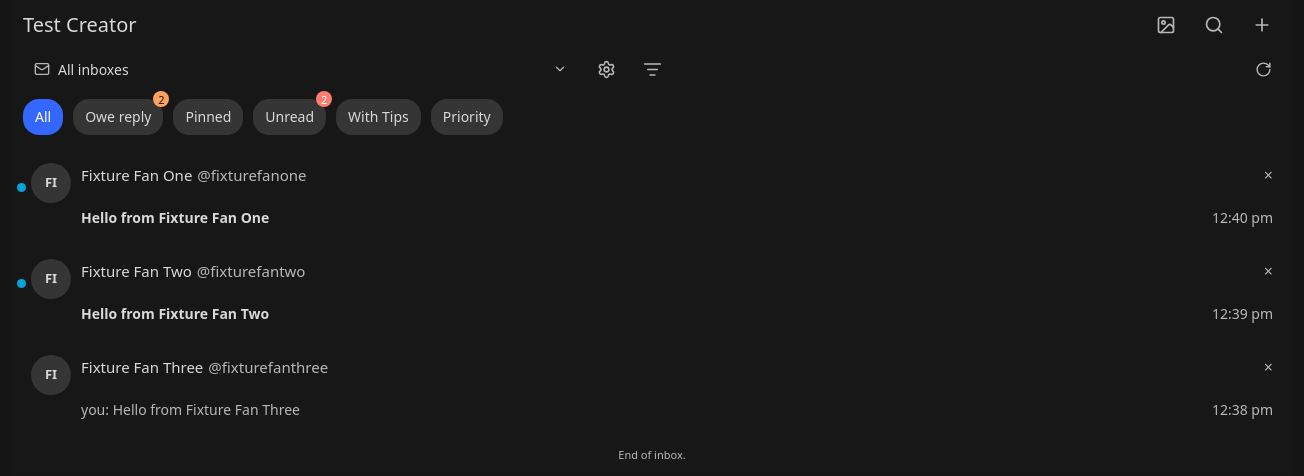
Test: FanList › Owe reply is the chip after All, its count shown before and while it is on, and there is no "+"
Click the button "Owe reply 2": (118, 117) [73,99,163,135]
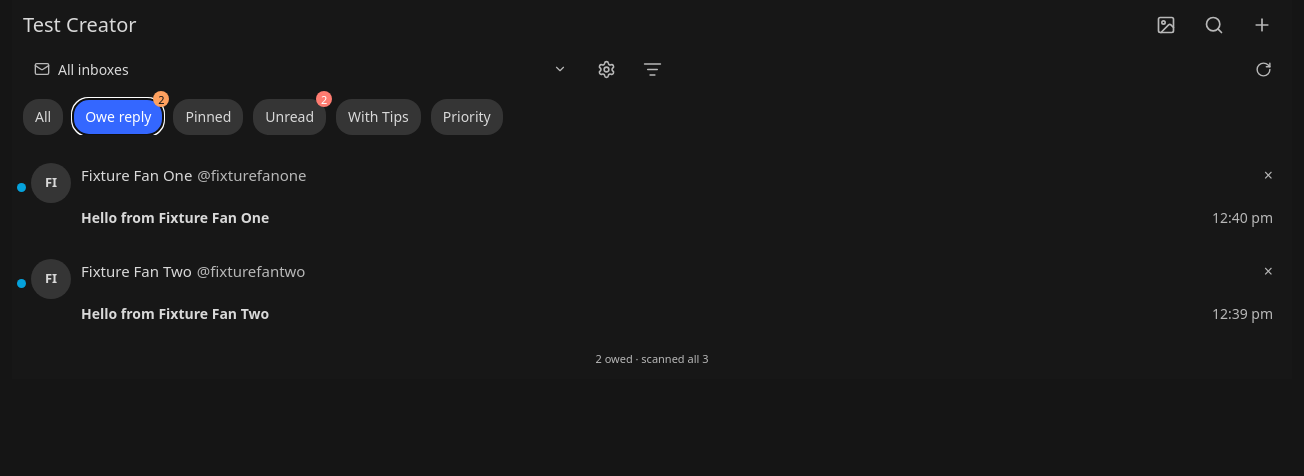
Expected: the button "Fixture Fan One" is shown, [12,147,1292,243]
Expected: the button "Fixture Fan Three" is gone
Expected: the text "2 owed · scanned all 3" is shown, [596,351,708,366]
